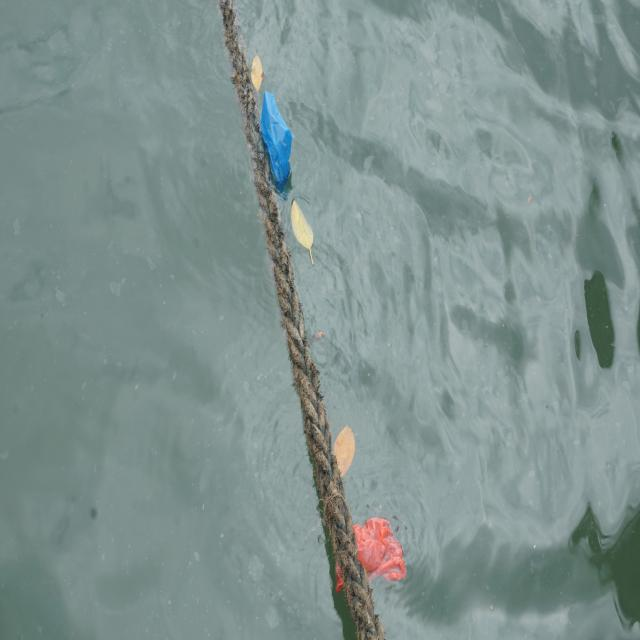Kantong Plastik: (349, 499, 412, 589), (258, 88, 298, 203)
